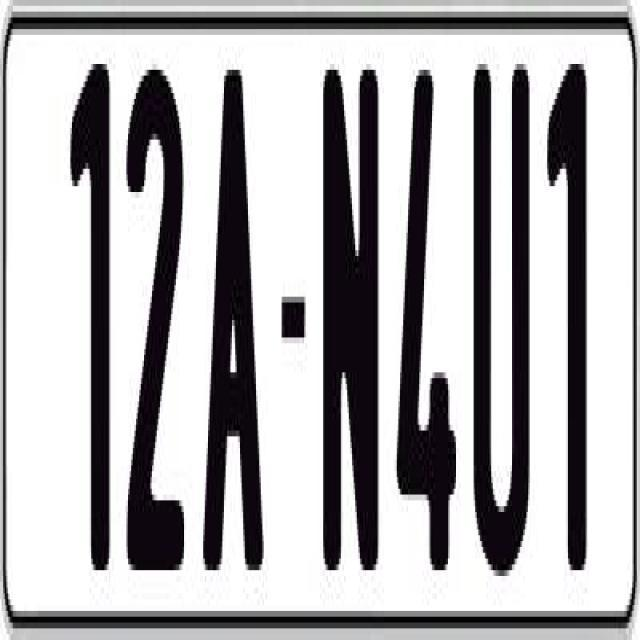1: (68, 58, 111, 588), (547, 53, 587, 565)
2: (125, 58, 183, 588)
4: (392, 70, 461, 570)
A: (202, 64, 264, 576)
N: (322, 58, 380, 576)
U: (474, 53, 535, 594)
